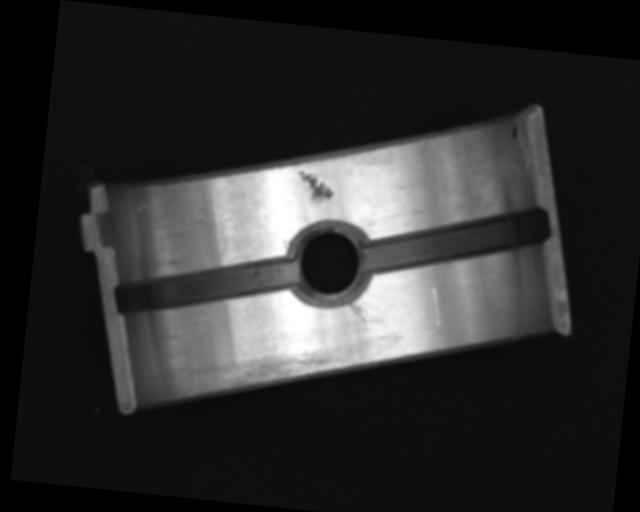blot: (510, 120, 519, 141)
bruise: (293, 170, 336, 207), (192, 215, 216, 229), (133, 200, 149, 213)
gap: (364, 192, 547, 291), (113, 246, 299, 330)
hole: (284, 222, 374, 310)
nick: (424, 286, 445, 353), (345, 303, 368, 322)
scratch: (182, 333, 352, 414)
